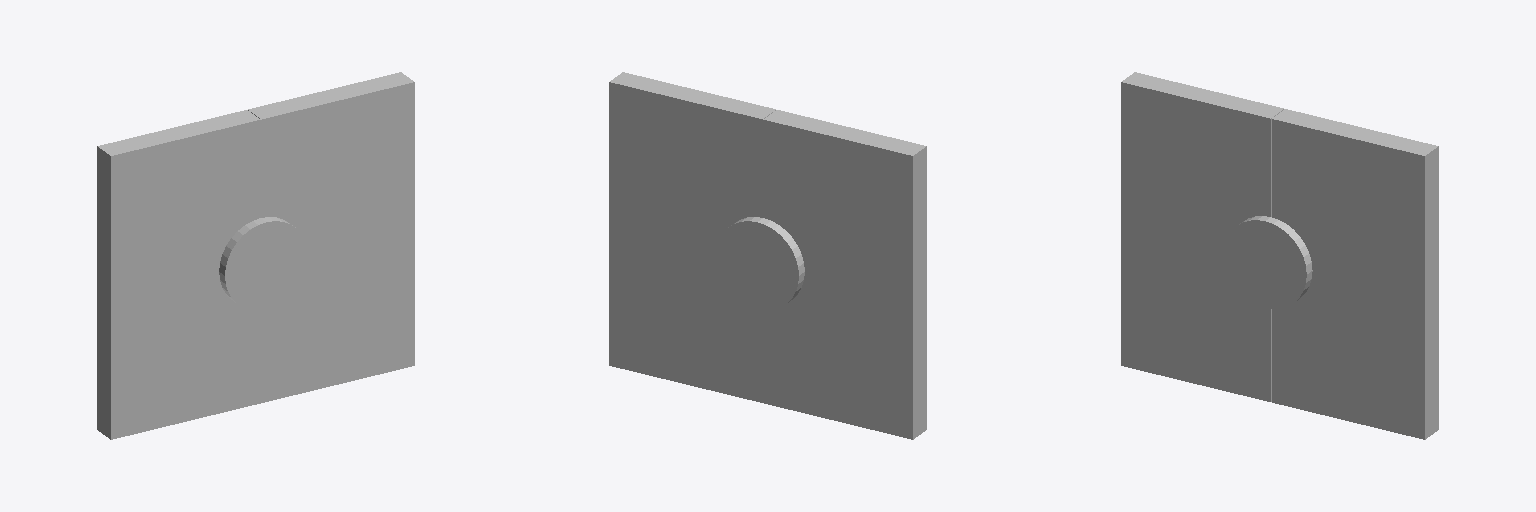
File: dangerdoors_right.obj
3 views of the same model, side by side, from view 1: azimuth 30°, elevation 25°; view 2: azimuth 150°, elevation 25°; view 3: azimuth 330°, elevation 25° (orthographic).
Visible parts, largest first — view 1: Cylinder, Cylinder.001_Cylinder.002; view 2: Cylinder.001_Cylinder.002, Cylinder; view 3: Cylinder, Cylinder.001_Cylinder.002.
Boxes of the visible parts, x1=… form: Cylinder: x1=219, y1=72, x2=414, y2=402; Cylinder.001_Cylinder.002: x1=97, y1=110, x2=260, y2=439; Cylinder.001_Cylinder.002: x1=716, y1=110, x2=926, y2=439; Cylinder: x1=609, y1=72, x2=775, y2=402; Cylinder: x1=1224, y1=109, x2=1438, y2=439; Cylinder.001_Cylinder.002: x1=1121, y1=72, x2=1283, y2=401.
Bounding box in the file's own units: 7.3 × 6.52 × 1.06.